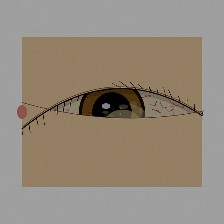corneal_ulcer: (95, 99, 151, 144)
